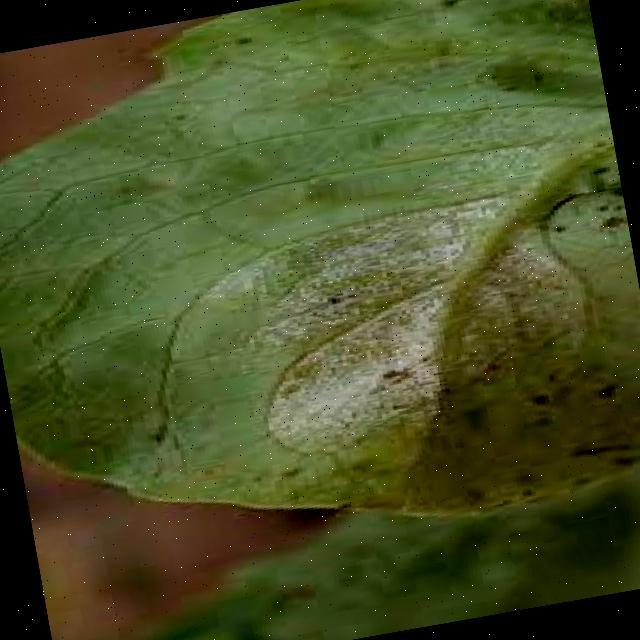Downy_Mildew: (129, 45, 639, 492)
